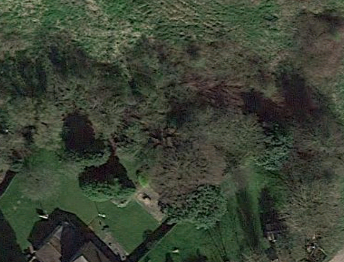tree: (173, 179, 235, 235), (77, 167, 141, 209)
